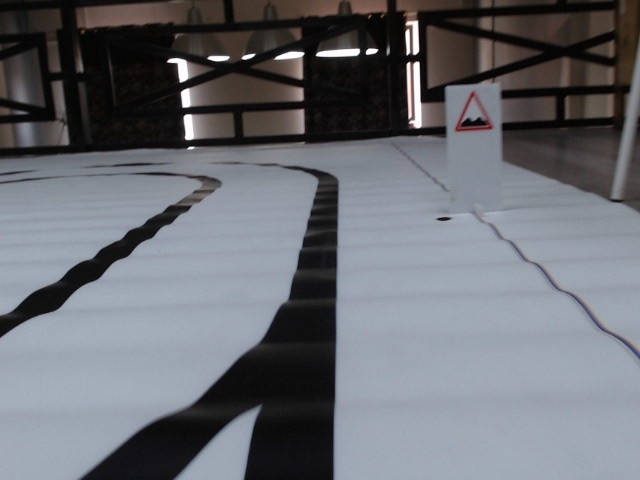Nerov: (453, 90, 496, 138)
